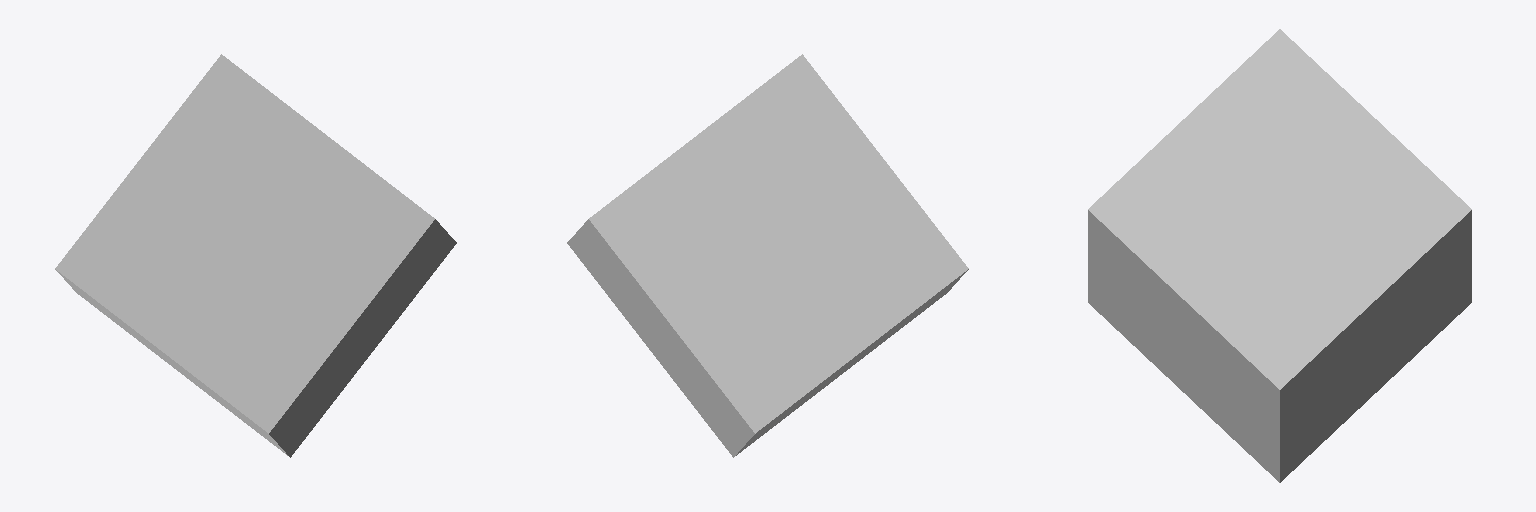
File: TestCubeRotated.obj
3 views of the same model, side by side, from view 1: azimuth 30°, elevation 25°; view 2: azimuth 150°, elevation 25°; view 3: azimuth 270°, elevation 25° (orthographic).
Visible parts, largest first — view 1: default; view 2: default; view 3: default.
Boxes of the visible parts, x1=… form: default: x1=55, y1=54, x2=456, y2=457; default: x1=567, y1=54, x2=968, y2=457; default: x1=1088, y1=29, x2=1471, y2=482.
Size of the model in its own units: 17.07 by 17.07 by 14.14.